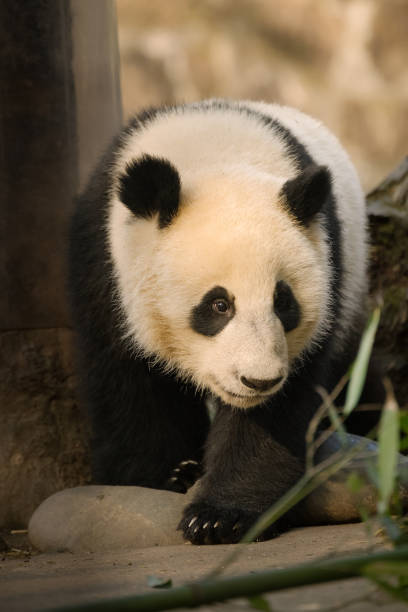panda: (99, 141, 359, 416)
